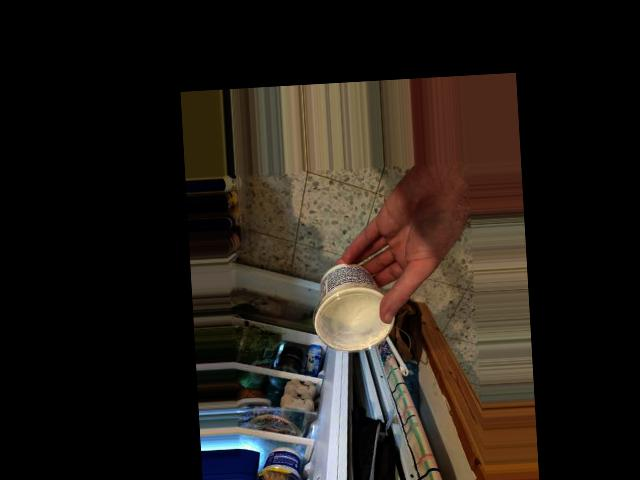cotage: (312, 262, 386, 350)
